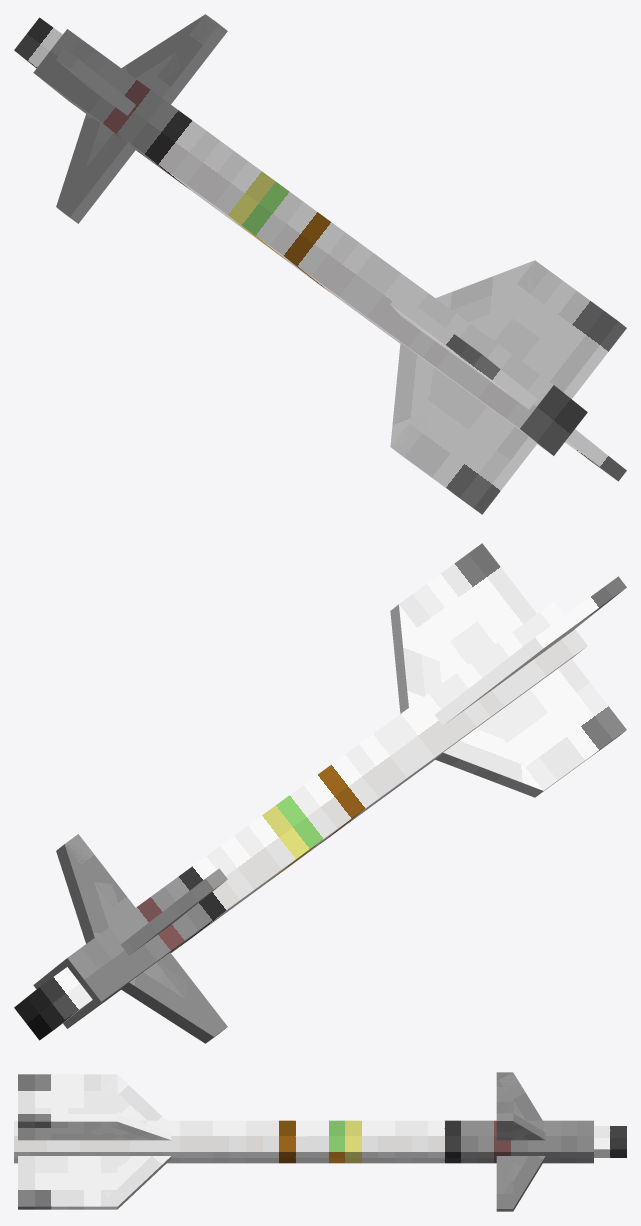
File: aim9.gltf
3 views of the same model, one above another, from view 1: azimuth 30°, elevation 25°; view 2: azimuth 150°, elevation 25°; view 3: azimuth 270°, elevation 25° (orthographic). The views are drawn at different scales.
Parts seen in each view (by area): view 1: cube (×14); view 2: cube (×15); view 3: cube (×16).
Boxes of the visible parts, x1,y1,x2,y2 form: cube (×14): [14, 14, 626, 514]; cube (×15): [14, 543, 626, 1043]; cube (×16): [14, 1072, 626, 1211].
Size of the model in its own units: 0.4101 by 0.4101 by 2.31.
Materials: 1 (1 with a texture image).
